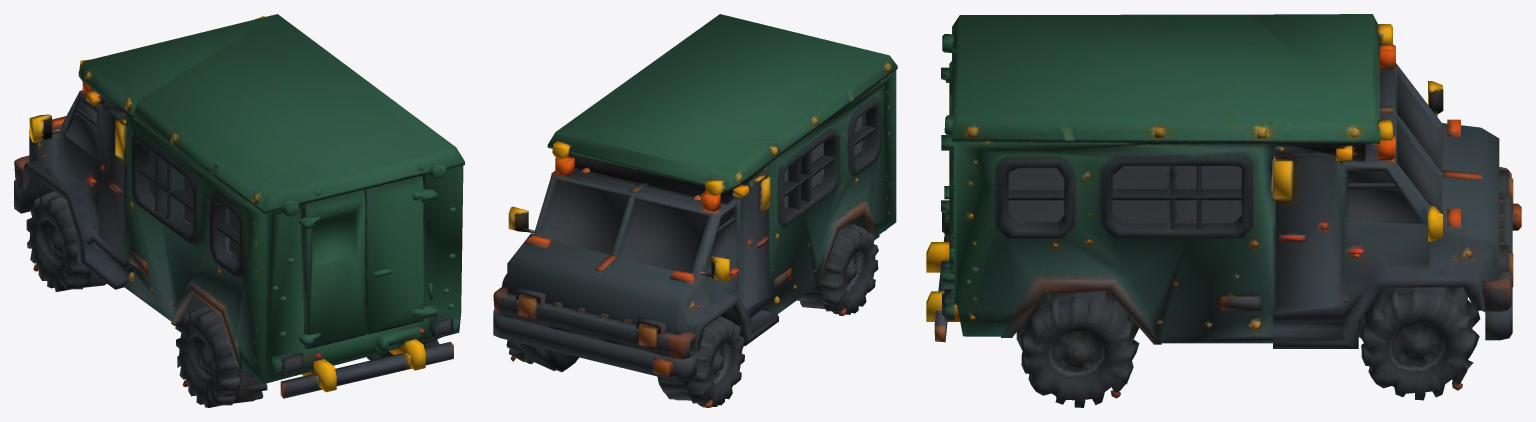
Rendered from Bank_GetawayTruck.glb.
3 views of the same model, side by side, from view 1: azimuth 30°, elevation 25°; view 2: azimuth 150°, elevation 25°; view 3: azimuth 270°, elevation 25° (orthographic). The views are drawn at different scales.
Visible parts, largest first — view 1: tripo_node_2d761cd8-7918-41c7-b130-6e7ac837bacd; view 2: tripo_node_2d761cd8-7918-41c7-b130-6e7ac837bacd; view 3: tripo_node_2d761cd8-7918-41c7-b130-6e7ac837bacd.
Part boxes in pixels (bbox=[...]): tripo_node_2d761cd8-7918-41c7-b130-6e7ac837bacd: bbox=[14, 14, 464, 407]; tripo_node_2d761cd8-7918-41c7-b130-6e7ac837bacd: bbox=[493, 14, 897, 407]; tripo_node_2d761cd8-7918-41c7-b130-6e7ac837bacd: bbox=[926, 14, 1521, 407].
Bounding box in the file's own units: 0.5369 × 0.5193 × 1.
Materials: 1 (1 with a texture image).
